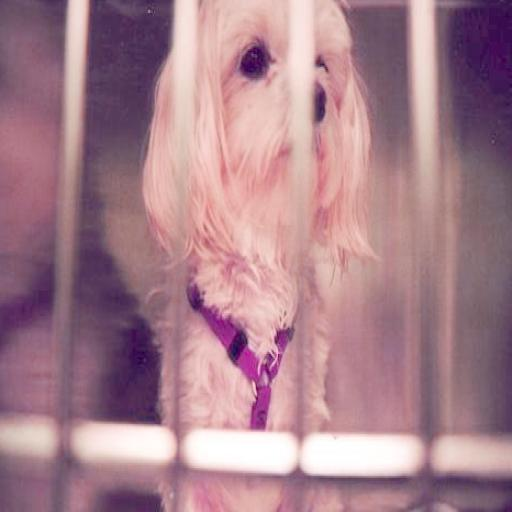dog_face: (152, 0, 372, 243)
